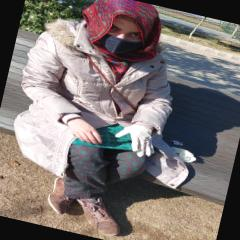gloved: (112, 120, 158, 160)
not-gloved: (64, 115, 108, 146)
